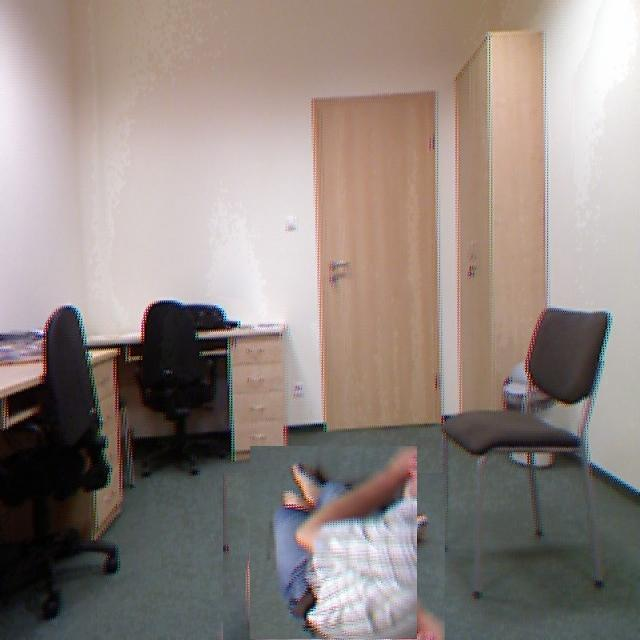Fall: (276, 495, 493, 640)
